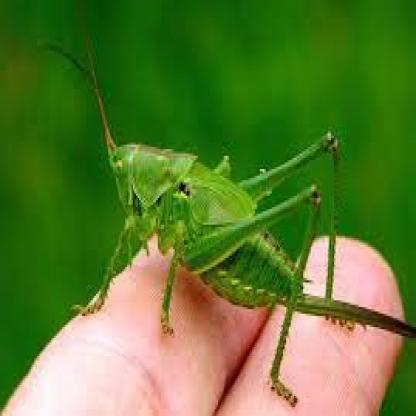grasshopper: (38, 35, 416, 403)
